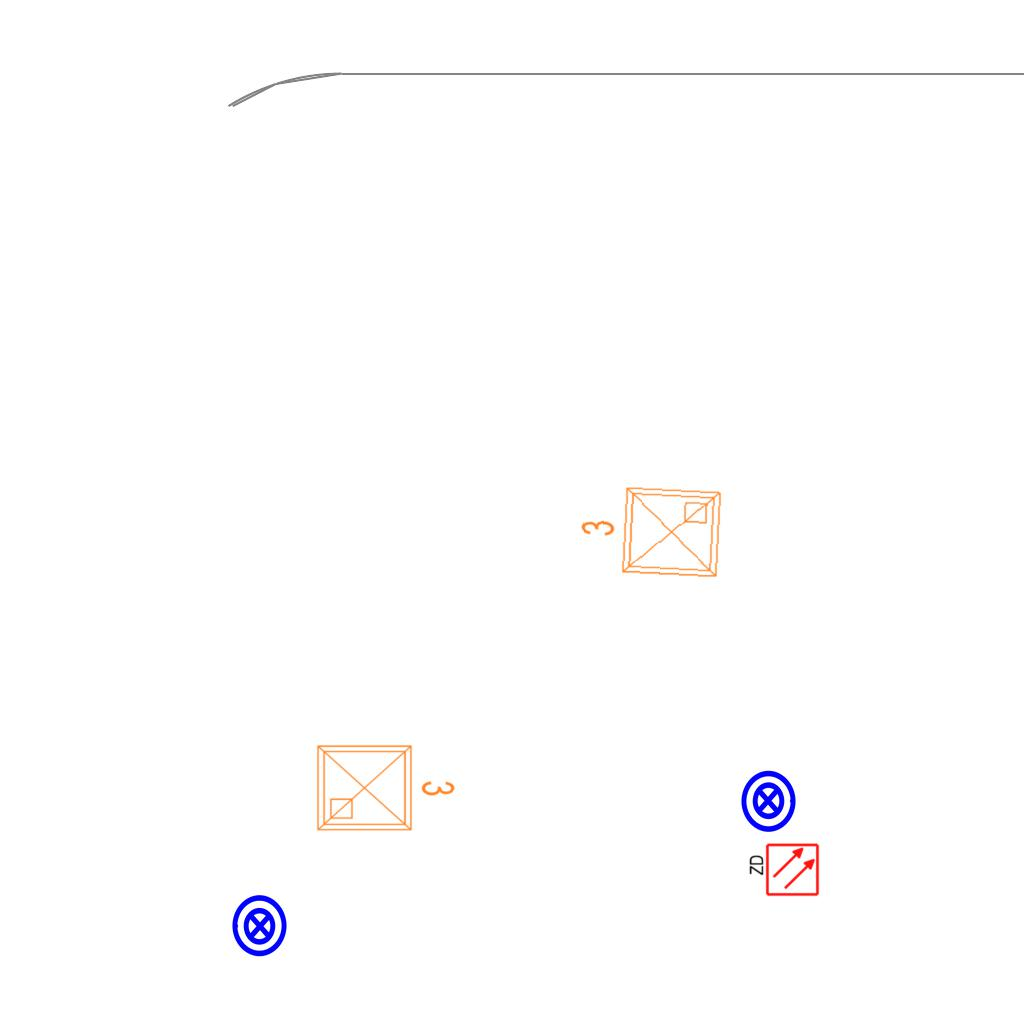Einbaudownlights_LED_Konferenzraeume: (573, 477, 729, 589), (310, 734, 460, 838)
Taster_beleuchtet: (735, 768, 801, 834), (227, 893, 293, 959)
ZD_Melder_in_Zwischendecke_mit_Revisionsoeffnung_mind_40_x_40_cm: (746, 842, 820, 899)
